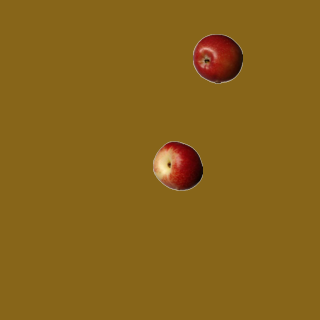Apple Braeburn: (192, 33, 242, 83)
Nectarine: (152, 140, 202, 190)
